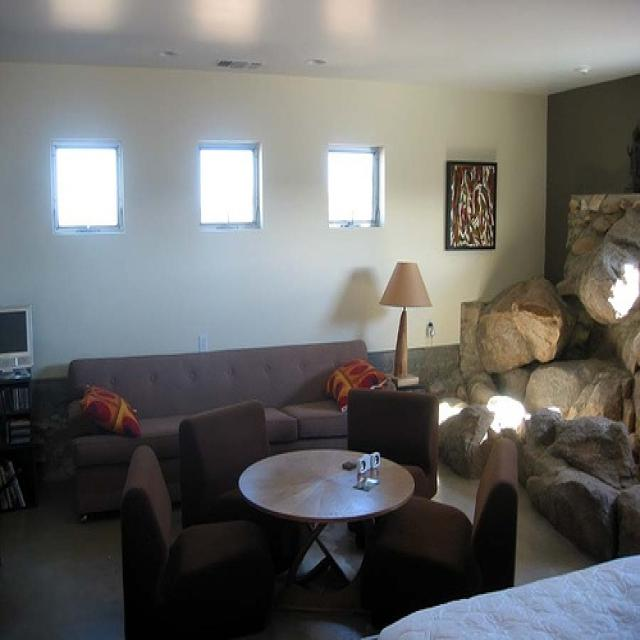chair: (358, 434, 518, 626), (119, 442, 274, 638), (179, 398, 310, 568), (347, 384, 439, 502)
sofa: (68, 336, 398, 522)
tvmonitor: (0, 302, 35, 377)
